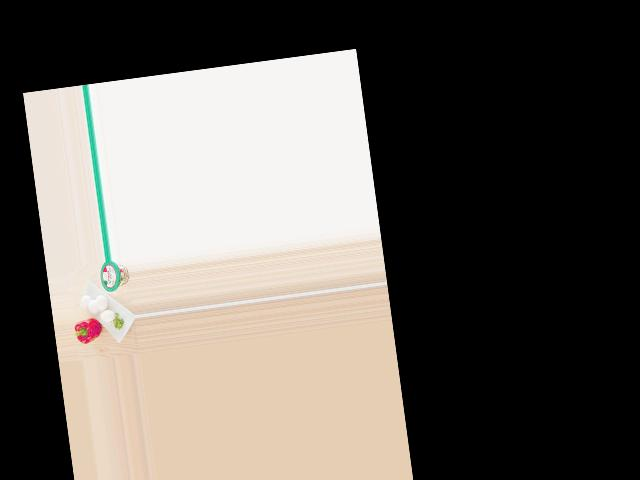bell_pepper: (73, 312, 103, 346)
